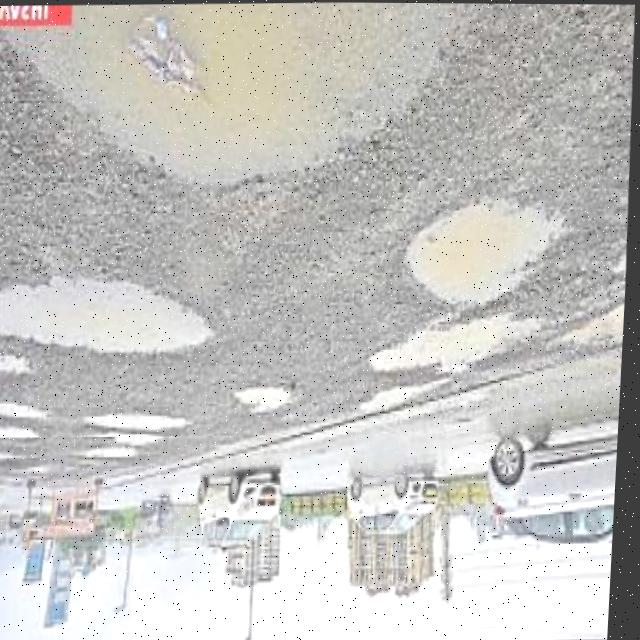Pothole: (0, 0, 475, 201), (0, 273, 221, 368), (400, 197, 564, 311), (372, 310, 537, 384), (89, 409, 190, 438), (235, 383, 297, 419), (0, 426, 49, 449), (0, 403, 50, 424), (83, 447, 143, 464)
